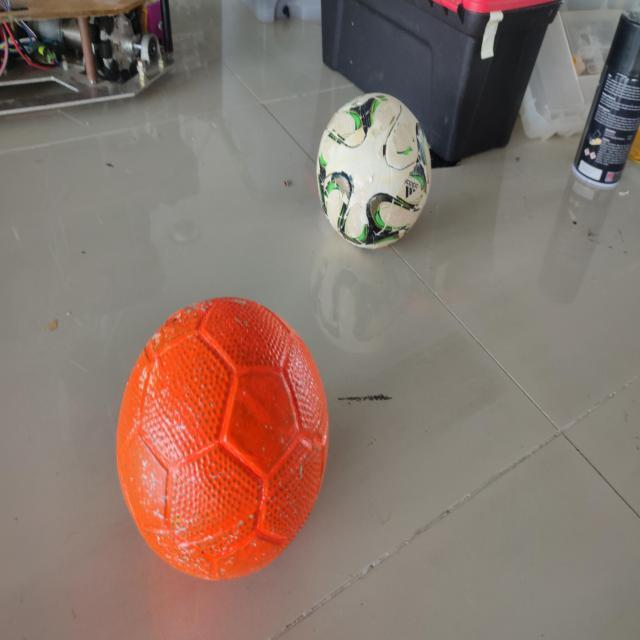bola: (113, 296, 334, 584)
